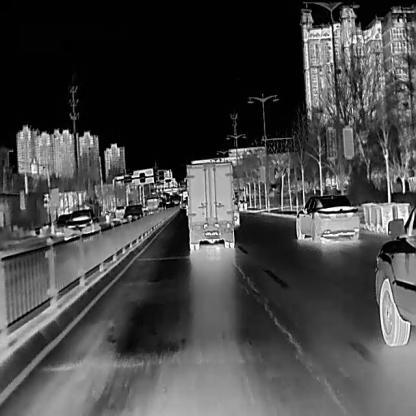car: (373, 203, 416, 346), (185, 159, 234, 251), (295, 194, 360, 242), (63, 208, 100, 240), (120, 203, 146, 224), (54, 213, 73, 236), (145, 197, 165, 214), (114, 205, 128, 218)
